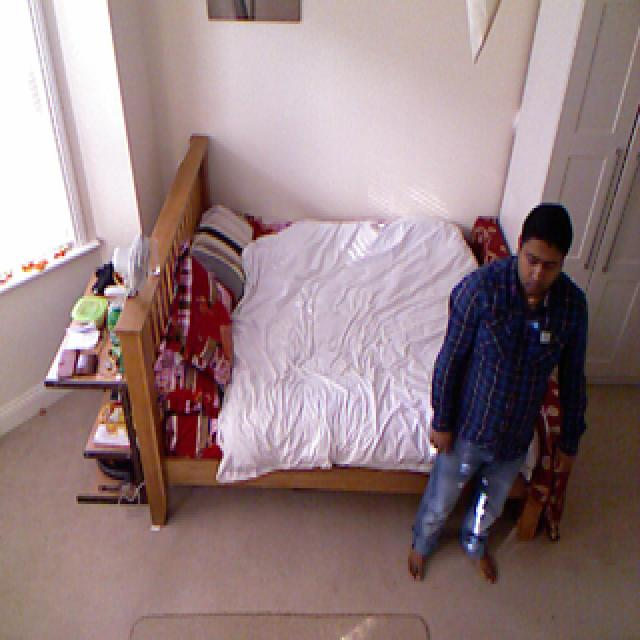standing: (426, 183, 594, 598)
